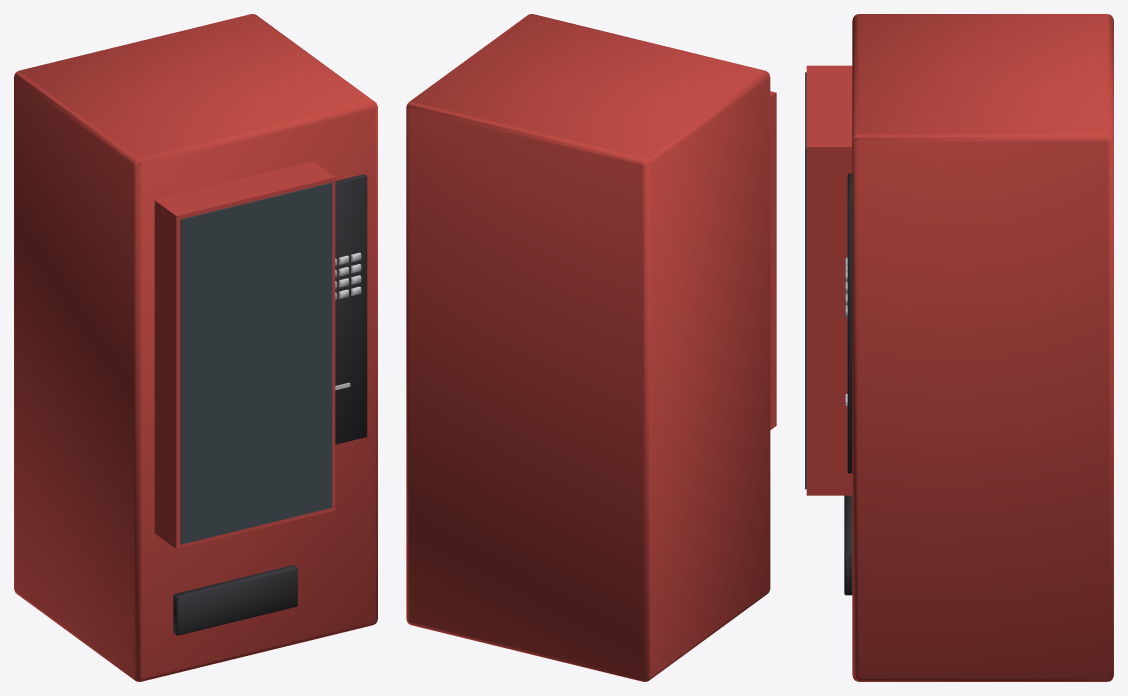
The model's file is vending_machine.glb.
3 renders of one model, left to right at view 1: azimuth 30°, elevation 25°; view 2: azimuth 150°, elevation 25°; view 3: azimuth 270°, elevation 25°, orthographic. The views are drawn at different scales.
Visible parts, largest first — view 1: vending_machine; view 2: vending_machine; view 3: vending_machine.
Part boxes in pixels (bbox=[...]): vending_machine: bbox=[14, 14, 377, 681]; vending_machine: bbox=[406, 14, 776, 681]; vending_machine: bbox=[805, 14, 1113, 681].
Size of the model in its own units: 0.9 by 1.85 by 0.945.
